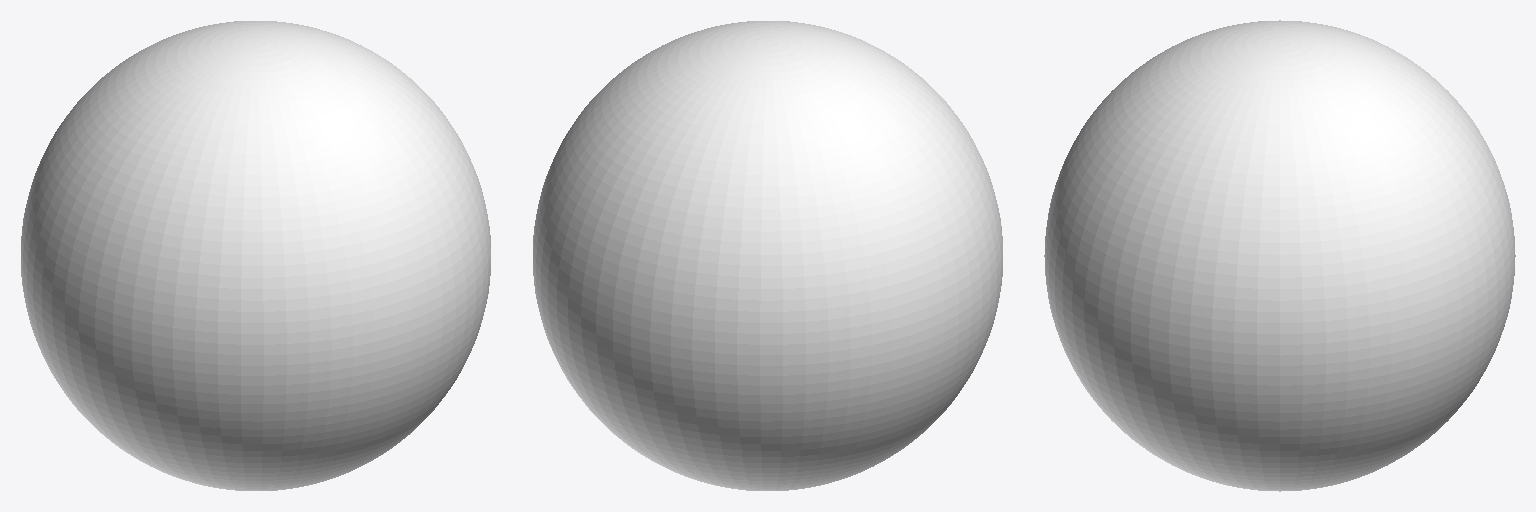
3 views of the same model, side by side, from view 1: azimuth 30°, elevation 25°; view 2: azimuth 150°, elevation 25°; view 3: azimuth 270°, elevation 25° (orthographic).
Parts seen in each view (by area): view 1: Ball; view 2: Ball; view 3: Ball.
Part boxes in pixels (left/top/right/bottom): Ball: left=21, top=21, right=490, bottom=490; Ball: left=533, top=21, right=1002, bottom=490; Ball: left=1044, top=20, right=1515, bottom=491.
Size of the model in its own units: 1 by 1 by 1.